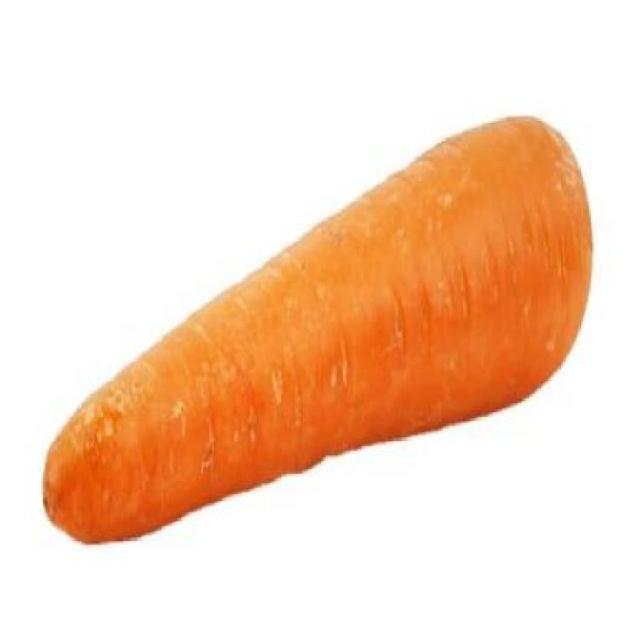carrot: (36, 104, 595, 548)
